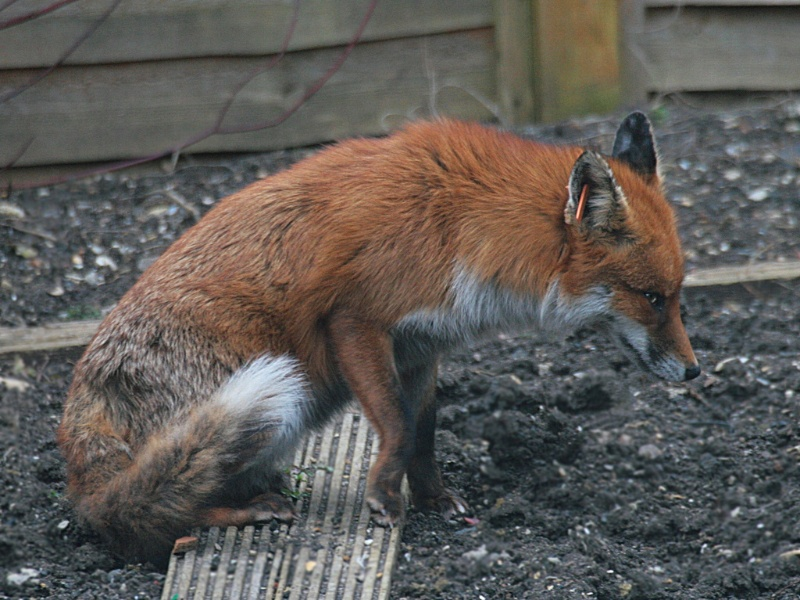fox: (56, 91, 698, 568)
